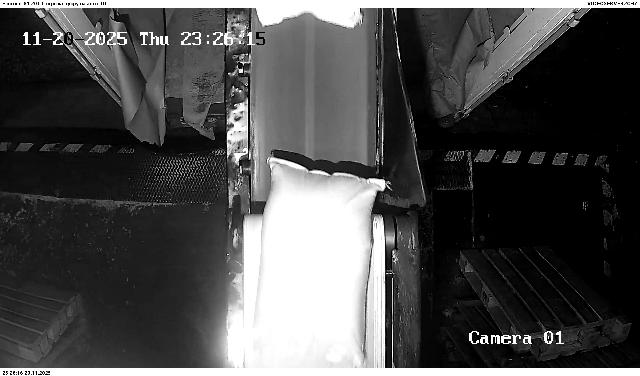bag: (253, 157, 387, 366), (256, 8, 363, 27)
